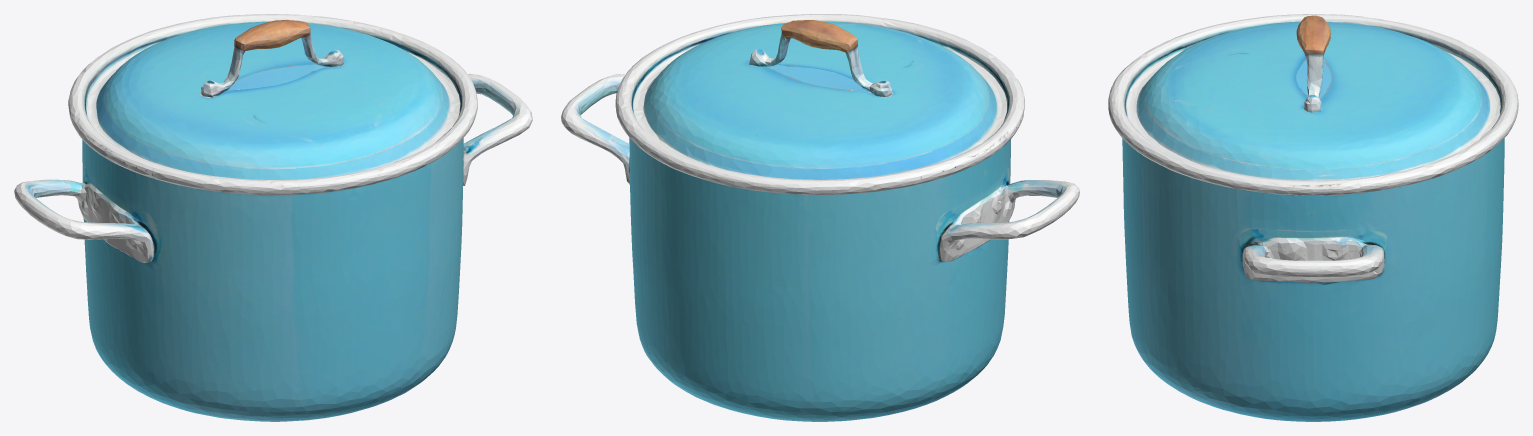
File: 1950s_cooking_pot_mi_0401231405_texture.fbx
3 renders of one model, left to right at view 1: azimuth 30°, elevation 25°; view 2: azimuth 150°, elevation 25°; view 3: azimuth 270°, elevation 25°, orthographic.
Parts seen in each view (by area): view 1: temp; view 2: temp; view 3: temp.
Boxes of the visible parts, x1,y1,x2,y2 form: temp: (14, 14, 532, 421); temp: (561, 14, 1079, 421); temp: (1108, 14, 1518, 421).
Bounding box in the file's own units: 200 × 135 × 148.
Materials: 1 (1 with a texture image).
